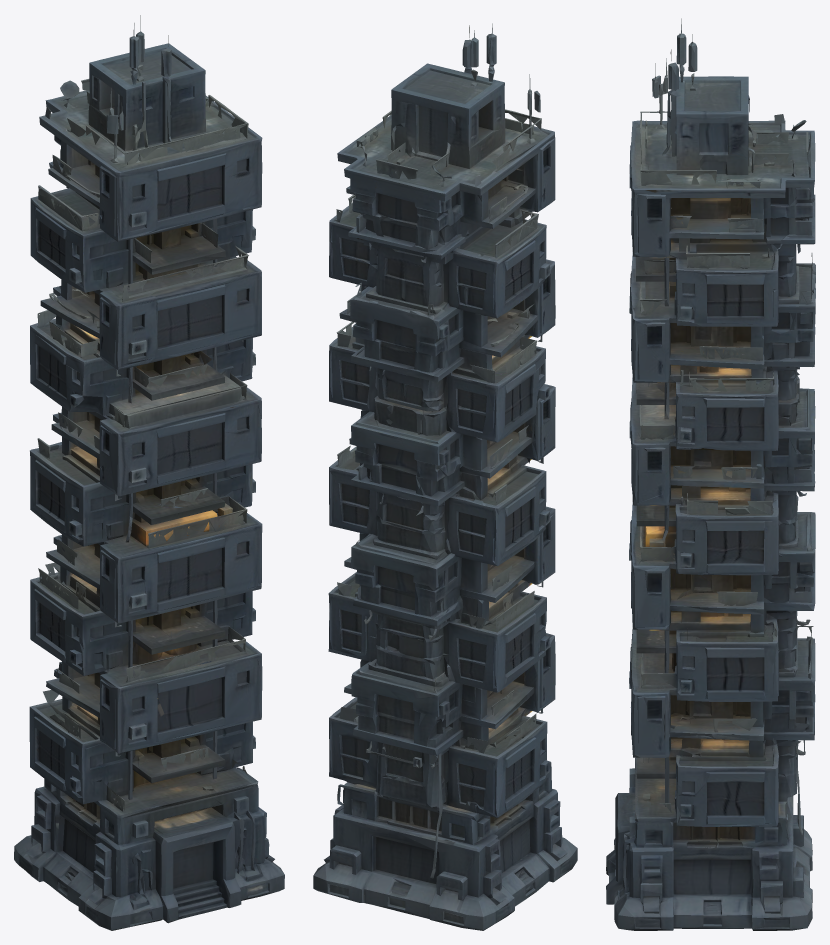
3 views of the same model, side by side, from view 1: azimuth 30°, elevation 25°; view 2: azimuth 150°, elevation 25°; view 3: azimuth 270°, elevation 25° (orthographic). The views are drawn at different scales.
Visible parts, largest first — view 1: model; view 2: model; view 3: model.
Boxes of the visible parts, x1,y1,x2,y2 form: model: [14, 15, 284, 930]; model: [313, 23, 577, 930]; model: [606, 18, 815, 930].
Bounding box in the file's own units: 0.4121 × 1.89 × 0.4187.
1 material, 1 textured.
